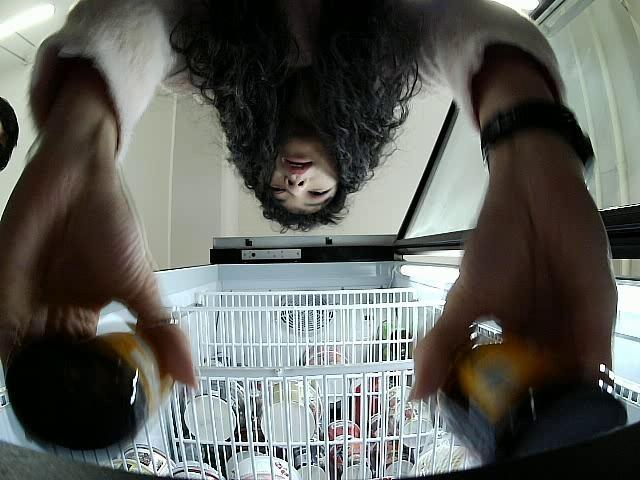17_vita500: (434, 342, 628, 467), (7, 329, 174, 448)
